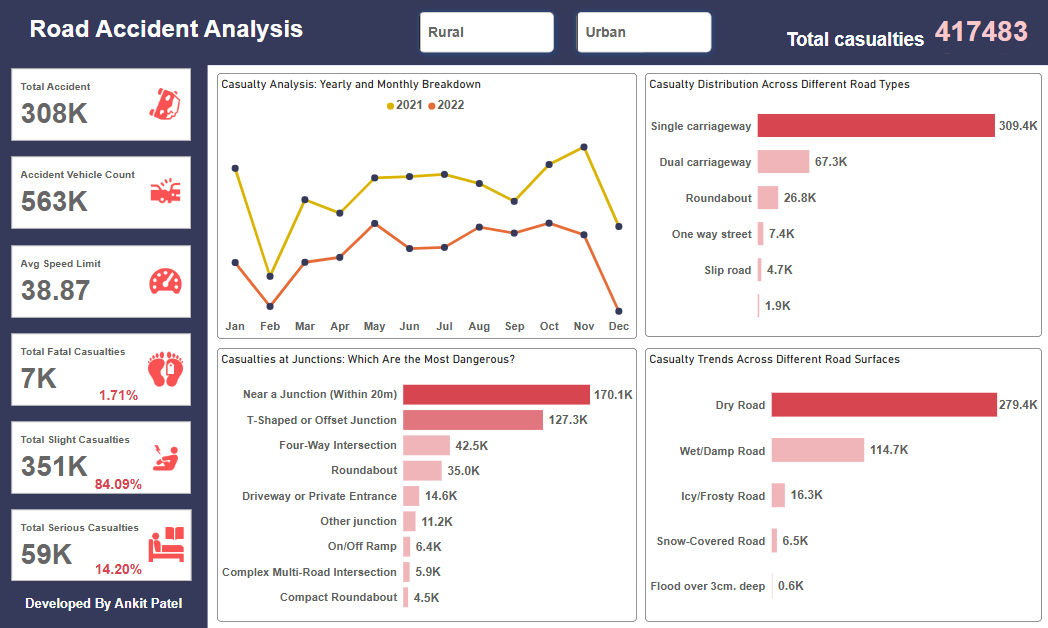

The dashboard page shown, as its layout file describes it:
{"tool":"powerbi","page":{"name":"Page 2","canvas":[1500,900],"ordinal":1},"visuals":[{"type":"shape","box":[1204.3,432.9,295.7,467.1],"z":0},{"type":"shape","box":[0,0,1500,93.3],"z":1000},{"type":"shape","box":[0,0,298.3,900],"z":2000},{"type":"actionButton","title":"Road Accident Analysis","box":[38.6,12.9,408.6,40],"z":3000},{"type":"cardVisual","fields":{"Data":["Measure Table.Total Accident"]},"box":[13.3,93.3,266.7,113.3],"z":4000},{"type":"cardVisual","fields":{"Data":["Measure Table.Total Fatal Casualties"]},"box":[13.3,471,266.7,113.3],"z":5000},{"type":"cardVisual","fields":{"Data":["Measure Table.Total Serious Casualties"]},"box":[12.9,722.9,267.1,112.9],"z":6000},{"type":"cardVisual","fields":{"Data":["Measure Table.Total Slight Casualties"]},"box":[13.3,597,266.7,113.3],"z":7000},{"type":"cardVisual","fields":{"Data":["Measure Table.Accident Vehicle Count"]},"box":[13.3,219.2,266.7,113.3],"z":8000},{"type":"cardVisual","fields":{"Data":["Measure Table.Avg Speed Limit"]},"box":[13.3,345.1,266.7,113.3],"z":9000},{"type":"card","fields":{"Values":["Measure Table.Slight %"]},"box":[117.1,678.6,107.1,27.1],"z":10000},{"type":"card","fields":{"Values":["Measure Table.Serious %"]},"box":[117.1,800,107.1,27.1],"z":11000},{"type":"card","fields":{"Values":["Measure Table.Deaths %"]},"box":[117.1,550,107.1,31.4],"z":12000},{"type":"card","fields":{"Values":["Measure Table.Total casualties"]},"box":[1317.1,24.3,172.9,57.1],"z":13000},{"type":"actionButton","title":"Total casualties","box":[1115.7,41.4,214.3,40],"z":14000},{"type":"actionButton","title":"Developed By Ankit Patel","box":[0,851.4,298.6,28.6],"z":15000},{"type":"advancedSlicerVisual","fields":{"Values":["Road Accident Dataa.Urban_or_Rural_Area"]},"box":[582.9,0,452.9,92.9],"z":17000},{"type":"image","box":[1204.3,814.3,112.9,85.7],"z":18001},{"type":"image","box":[1204.3,430,112.9,85.7],"z":18002},{"type":"image","box":[1204.3,522.9,112.9,80],"z":18003},{"type":"image","box":[1204.3,711.4,112.9,95.7],"z":18004},{"type":"image","box":[1204.3,610,112.9,94.3],"z":18005},{"type":"card","fields":{"Values":["Measure Table.Car"]},"box":[1330,437.1,170,75.7],"z":18006},{"type":"shape","box":[1317.1,460,28.6,31.4],"z":18007},{"type":"shape","box":[1317.1,550,28.6,31.4],"z":18008},{"type":"shape","box":[1317.1,641.4,28.6,31.4],"z":18009},{"type":"shape","box":[1315.7,747.1,28.6,31.4],"z":18010},{"type":"shape","box":[1317.1,841.4,28.6,31.4],"z":18011},{"type":"card","fields":{"Values":["Measure Table.Bus"]},"box":[1331.4,731.4,168.6,57.1],"z":18012},{"type":"card","fields":{"Values":["Measure Table.Other"]},"box":[1337.1,821.4,162.9,70],"z":18013},{"type":"card","fields":{"Values":["Measure Table.Motorcycle"]},"box":[1331.4,625.7,168.6,67.1],"z":18014},{"type":"card","fields":{"Values":["Measure Table.Agricultural"]},"box":[1331.4,527.1,168.6,75.7],"z":18015},{"type":"tableEx","fields":{"Values":["Road Accident Dataa.Hour","Measure Table.Total Accident","Measure Table.Total Fatal Casualties","Measure Table.Total Serious Casualties","Measure Table.Total Slight Casualties"]},"box":[310,122.9,572.9,750],"z":18016},{"type":"donutChart","title":"Casualties by Area","fields":{"Category":["Road Accident Dataa.Urban_or_Rural_Area"],"Y":["Measure Table.Total casualties"]},"box":[894.3,430,297.1,442.9],"z":18017},{"type":"donutChart","title":"Casualties Over the Years","fields":{"Y":["Measure Table.Total casualties"],"Category":["Date Table.Year"]},"box":[894.3,121.4,594.3,295.7],"z":18018}]}

Visuals, with their boxes in screenshot pixels (x1, y1, x2, y2), scaled from the page's 1500x900 canvas onto the 1048x628 screenshot:
shape: {"x1": 841, "y1": 302, "x2": 1047, "y2": 627}
shape: {"x1": 0, "y1": 0, "x2": 1047, "y2": 65}
shape: {"x1": 0, "y1": 0, "x2": 208, "y2": 627}
"Road Accident Analysis" actionButton: {"x1": 27, "y1": 9, "x2": 312, "y2": 37}
cardVisual - Measure Table.Total Accident: {"x1": 9, "y1": 65, "x2": 196, "y2": 144}
cardVisual - Measure Table.Total Fatal Casualties: {"x1": 9, "y1": 329, "x2": 196, "y2": 408}
cardVisual - Measure Table.Total Serious Casualties: {"x1": 9, "y1": 504, "x2": 196, "y2": 583}
cardVisual - Measure Table.Total Slight Casualties: {"x1": 9, "y1": 417, "x2": 196, "y2": 496}
cardVisual - Measure Table.Accident Vehicle Count: {"x1": 9, "y1": 153, "x2": 196, "y2": 232}
cardVisual - Measure Table.Avg Speed Limit: {"x1": 9, "y1": 241, "x2": 196, "y2": 320}
card - Measure Table.Slight %: {"x1": 82, "y1": 474, "x2": 157, "y2": 492}
card - Measure Table.Serious %: {"x1": 82, "y1": 558, "x2": 157, "y2": 577}
card - Measure Table.Deaths %: {"x1": 82, "y1": 384, "x2": 157, "y2": 406}
card - Measure Table.Total casualties: {"x1": 920, "y1": 17, "x2": 1041, "y2": 57}
"Total casualties" actionButton: {"x1": 780, "y1": 29, "x2": 929, "y2": 57}
"Developed By Ankit Patel" actionButton: {"x1": 0, "y1": 594, "x2": 209, "y2": 614}
advancedSlicerVisual - Road Accident Dataa.Urban_or_Rural_Area: {"x1": 407, "y1": 0, "x2": 724, "y2": 65}
image: {"x1": 841, "y1": 568, "x2": 920, "y2": 627}
image: {"x1": 841, "y1": 300, "x2": 920, "y2": 360}
image: {"x1": 841, "y1": 365, "x2": 920, "y2": 421}
image: {"x1": 841, "y1": 496, "x2": 920, "y2": 563}
image: {"x1": 841, "y1": 426, "x2": 920, "y2": 491}
card - Measure Table.Car: {"x1": 929, "y1": 305, "x2": 1047, "y2": 358}
shape: {"x1": 920, "y1": 321, "x2": 940, "y2": 343}
shape: {"x1": 920, "y1": 384, "x2": 940, "y2": 406}
shape: {"x1": 920, "y1": 448, "x2": 940, "y2": 469}
shape: {"x1": 919, "y1": 521, "x2": 939, "y2": 543}
shape: {"x1": 920, "y1": 587, "x2": 940, "y2": 609}
card - Measure Table.Bus: {"x1": 930, "y1": 510, "x2": 1047, "y2": 550}
card - Measure Table.Other: {"x1": 934, "y1": 573, "x2": 1047, "y2": 622}
card - Measure Table.Motorcycle: {"x1": 930, "y1": 437, "x2": 1047, "y2": 483}
card - Measure Table.Agricultural: {"x1": 930, "y1": 368, "x2": 1047, "y2": 421}
tableEx - Road Accident Dataa.Hour x Measure Table.Total Accident: {"x1": 217, "y1": 86, "x2": 617, "y2": 609}
"Casualties by Area" donutChart: {"x1": 625, "y1": 300, "x2": 832, "y2": 609}
"Casualties Over the Years" donutChart: {"x1": 625, "y1": 85, "x2": 1040, "y2": 291}
